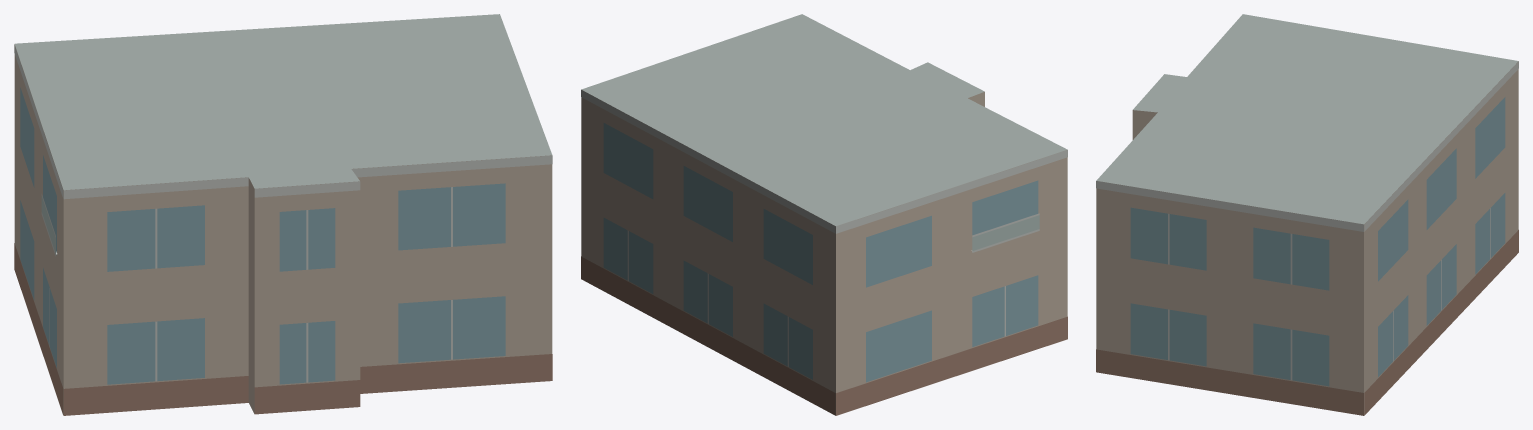
File: survey-upis-32668599.glb
3 views of the same model, side by side, from view 1: azimuth 30°, elevation 25°; view 2: azimuth 150°, elevation 25°; view 3: azimuth 270°, elevation 25° (orthographic). The views are drawn at different scales.
Visible parts, largest first — view 1: survey-upis-32668599.tmp; view 2: survey-upis-32668599.tmp; view 3: survey-upis-32668599.tmp.
Part boxes in pixels (x1=…): survey-upis-32668599.tmp: x1=14, y1=14, x2=552, y2=415; survey-upis-32668599.tmp: x1=581, y1=14, x2=1067, y2=415; survey-upis-32668599.tmp: x1=1096, y1=14, x2=1518, y2=415.
Bounding box in the file's own units: 14.38 × 6.1 × 12.21.
